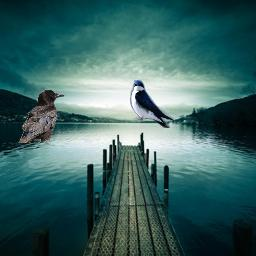Crow: (18, 89, 65, 143)
Swallow: (130, 80, 174, 128)
